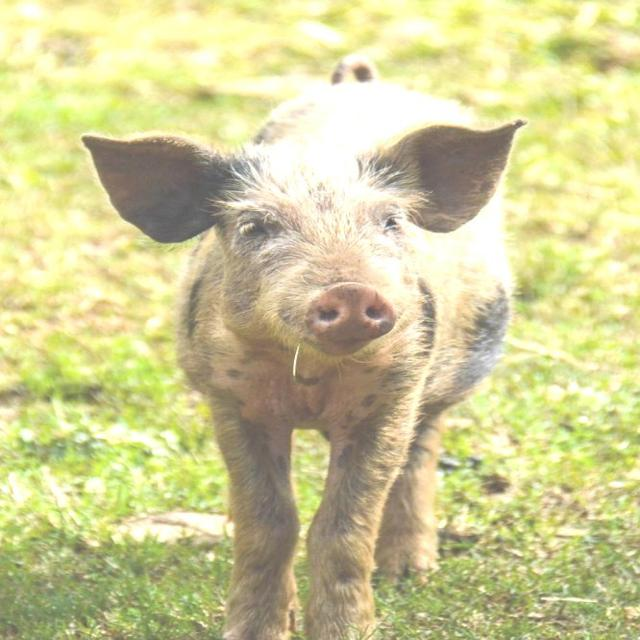pig: (82, 56, 524, 640)
